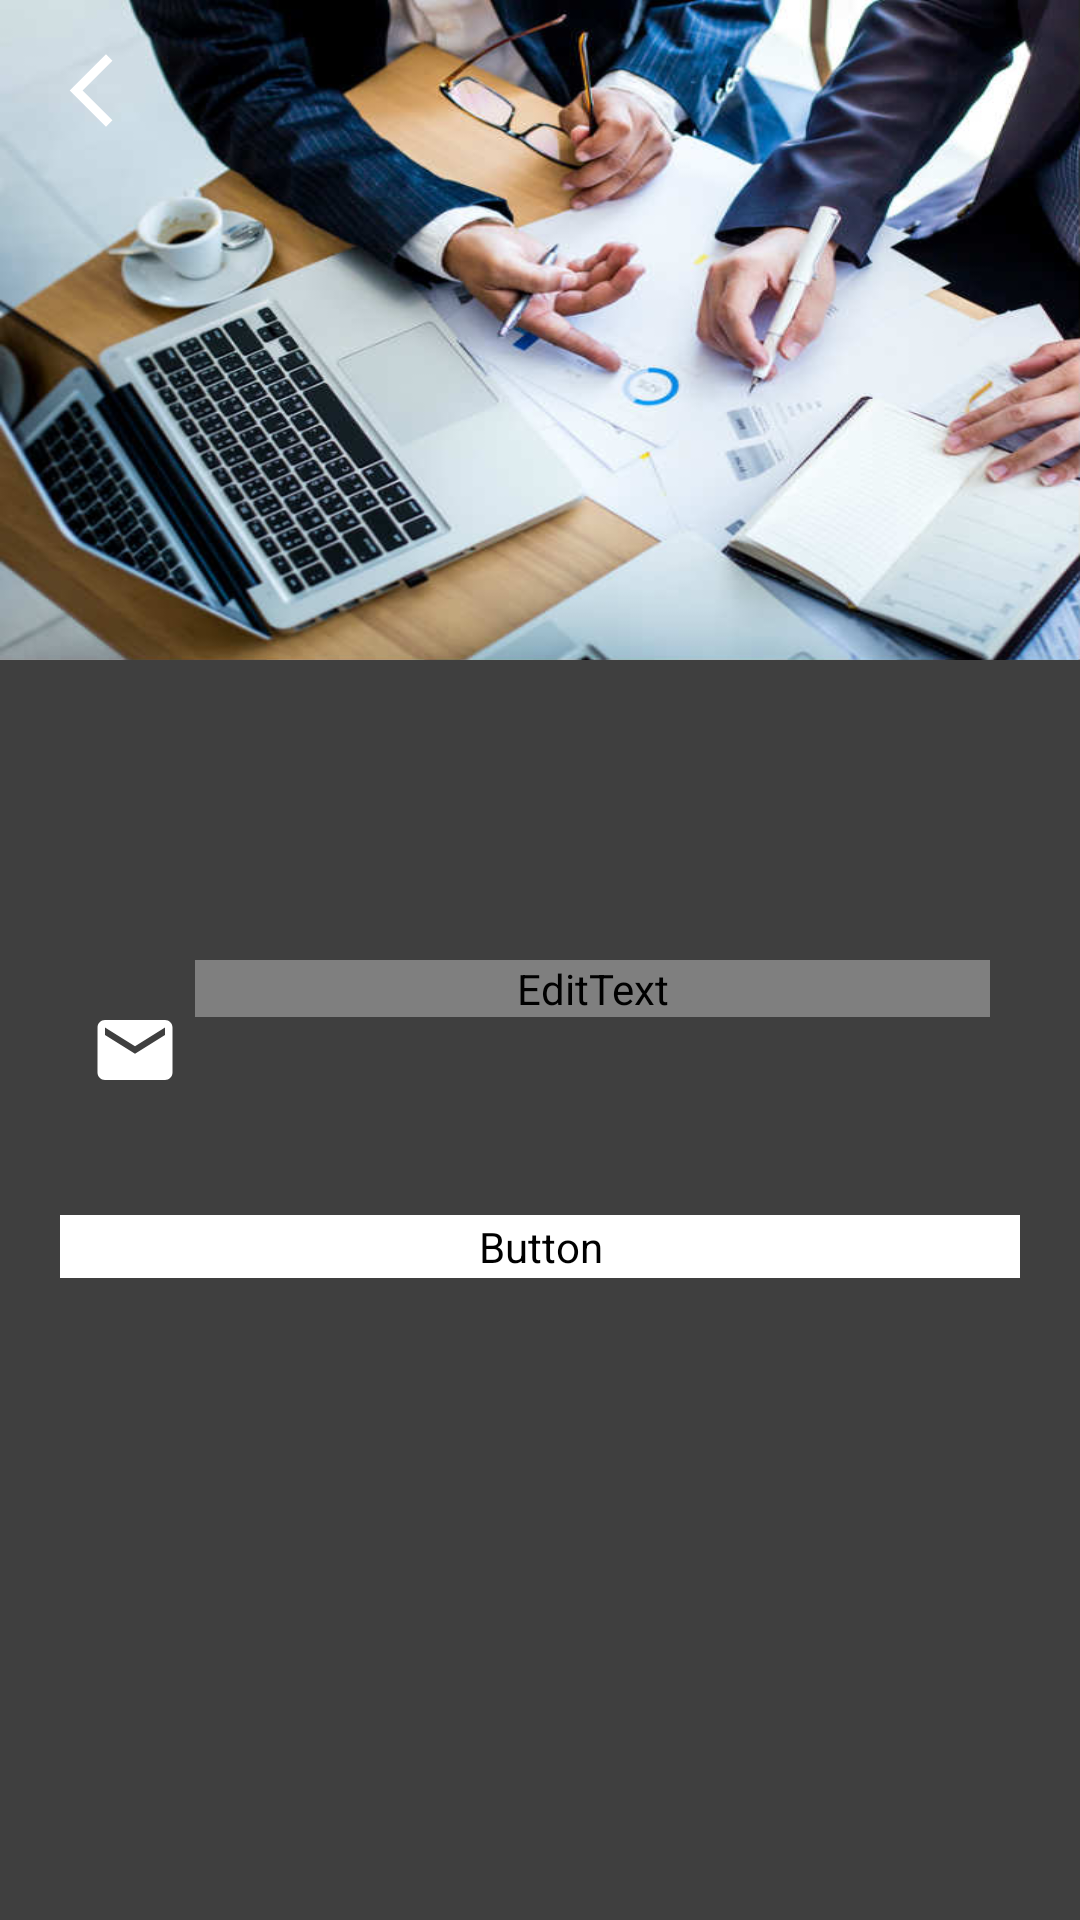

Named icons in this screenshot (1080x1920) and their bounding boxes, (x1, y1, x2, y2):
email: (97, 1020, 173, 1080)
